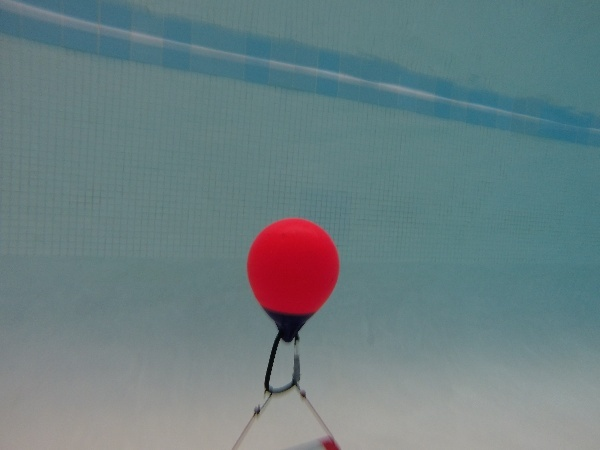buoy_red: (241, 213, 345, 342)
